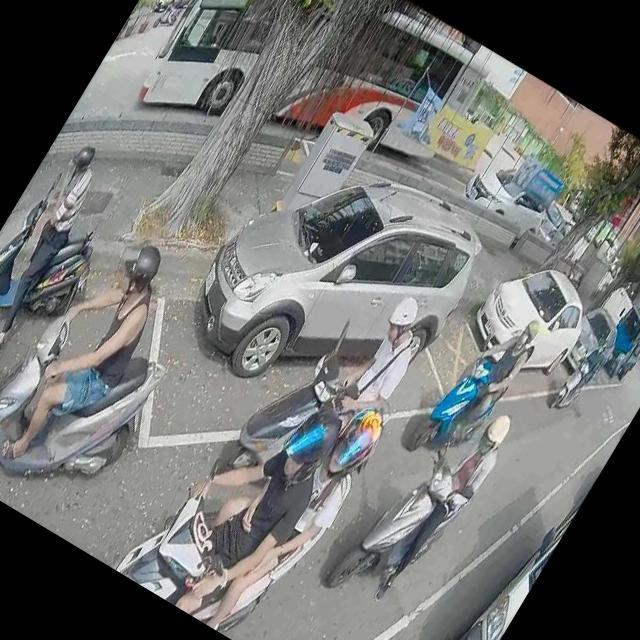person: (131, 362, 360, 638), (169, 371, 390, 640), (0, 215, 193, 492), (365, 392, 524, 617), (0, 130, 119, 360), (421, 298, 548, 462), (324, 287, 442, 438), (570, 333, 616, 394), (159, 0, 189, 26)
